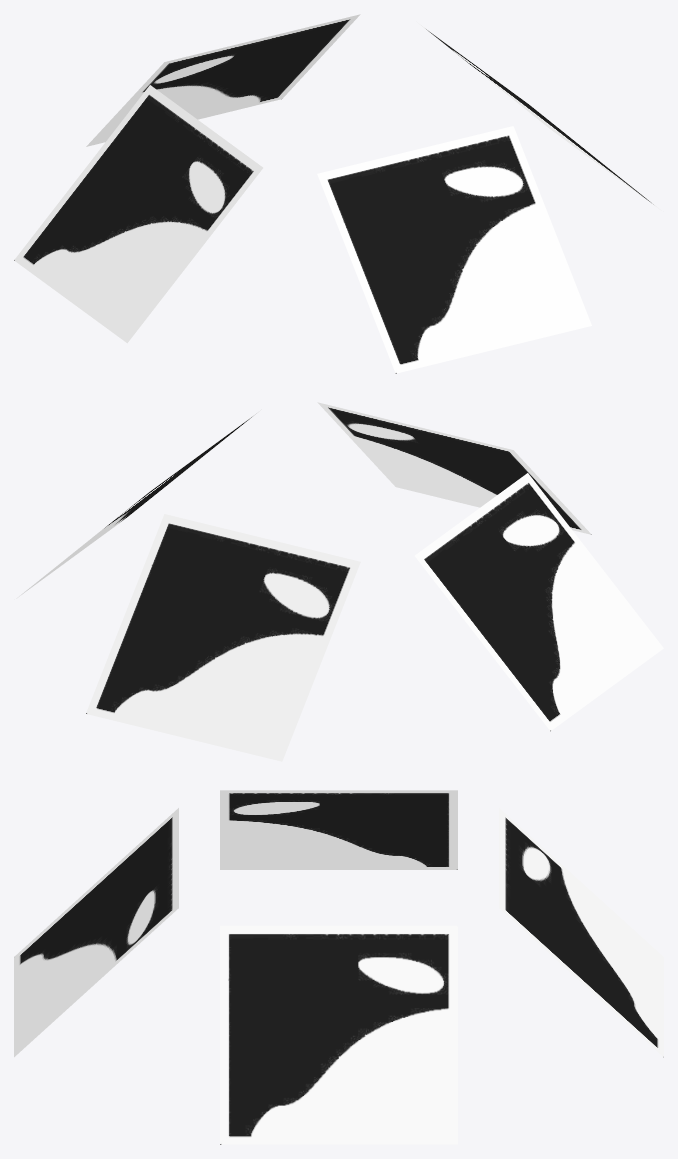
File: jmangoes.glb
3 renders of one model, top to bottom at view 1: azimuth 30°, elevation 25°; view 2: azimuth 150°, elevation 25°; view 3: azimuth 270°, elevation 25°, orthographic. The views are drawn at different scales.
Parts seen in each view (by area): view 1: jmangoes.001; view 2: jmangoes.001; view 3: jmangoes.001.
Part boxes in pixels (x1=…): jmangoes.001: x1=14, y1=14, x2=661, y2=373; jmangoes.001: x1=16, y1=402, x2=663, y2=761; jmangoes.001: x1=14, y1=790, x2=663, y2=1144.
Size of the model in its own units: 1340 by 340 by 1340.
1 material, 1 textured.
